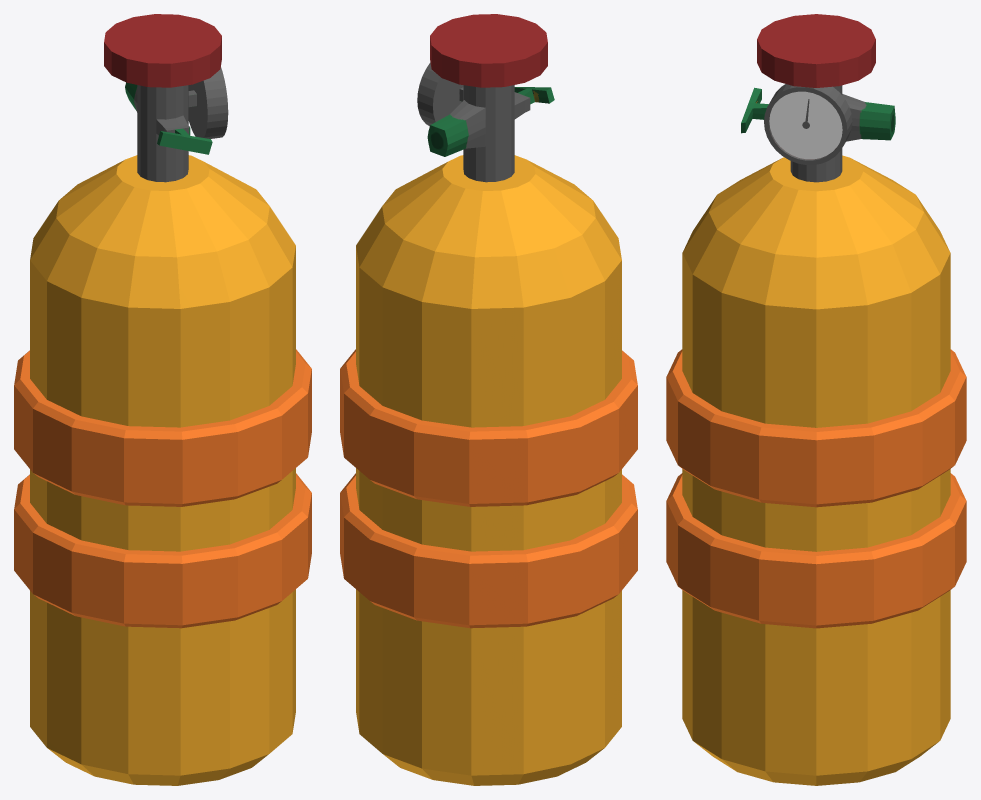
File: OxygenTank.fbx
The picture shows the model from 3 angles, left to right: view 1: azimuth 30°, elevation 25°; view 2: azimuth 150°, elevation 25°; view 3: azimuth 270°, elevation 25°; orthographic projection.
Parts seen in each view (by area): view 1: Cylinder; view 2: Cylinder; view 3: Cylinder.
Part boxes in pixels (left/top/right/bottom): Cylinder: left=14, top=14, right=311, bottom=785; Cylinder: left=340, top=14, right=637, bottom=785; Cylinder: left=666, top=14, right=966, bottom=785.
Size of the model in its own units: 55.98 by 144 by 55.98.
